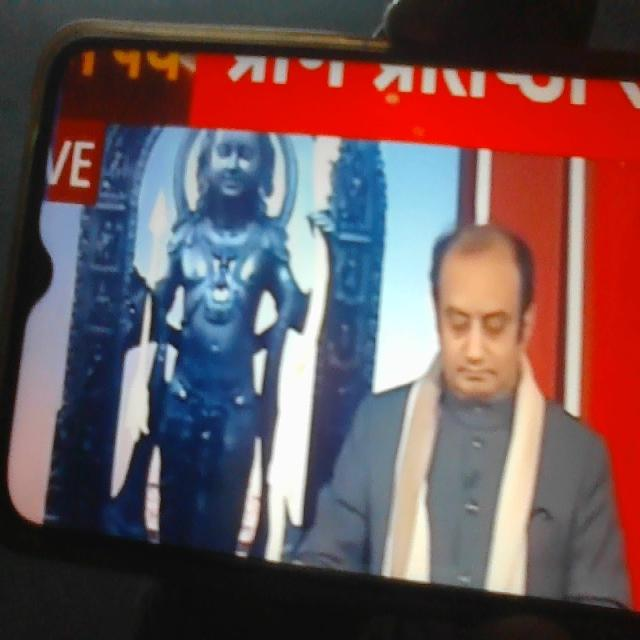fake: (420, 200, 542, 431)
